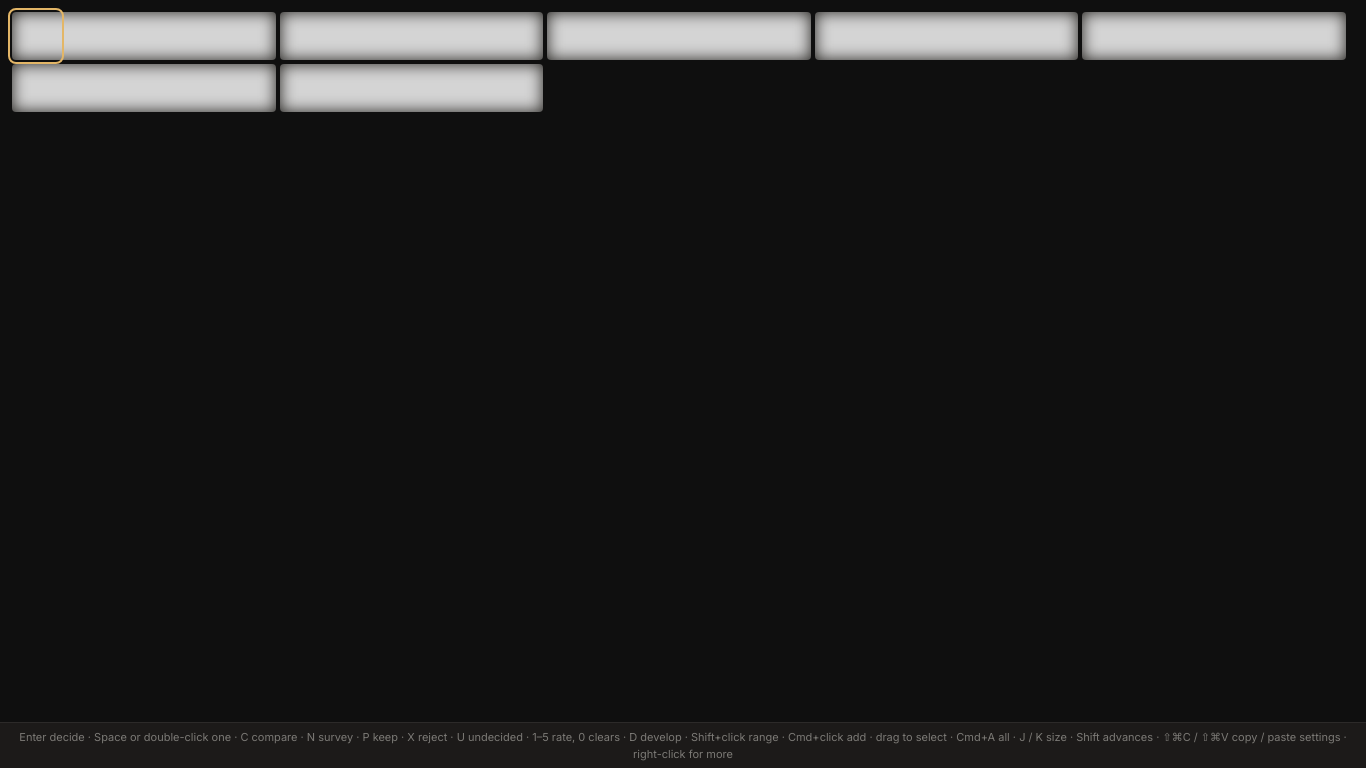
Scenario: the grid mouse (plan 52) › a double-click opens One on the photo
Double-click the option named "c.jpg": (679, 36) [547,12,811,60]
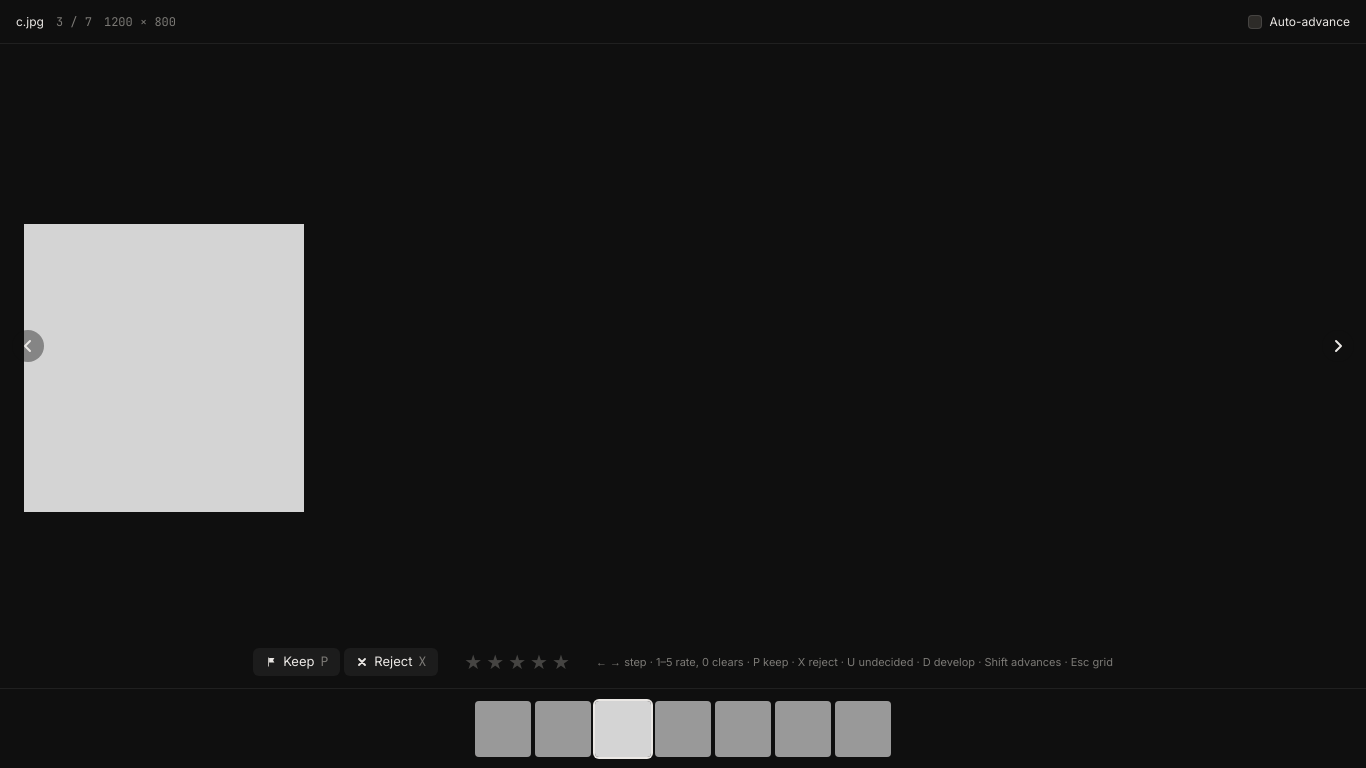
Expected: the element named "One: c.jpg" is shown
